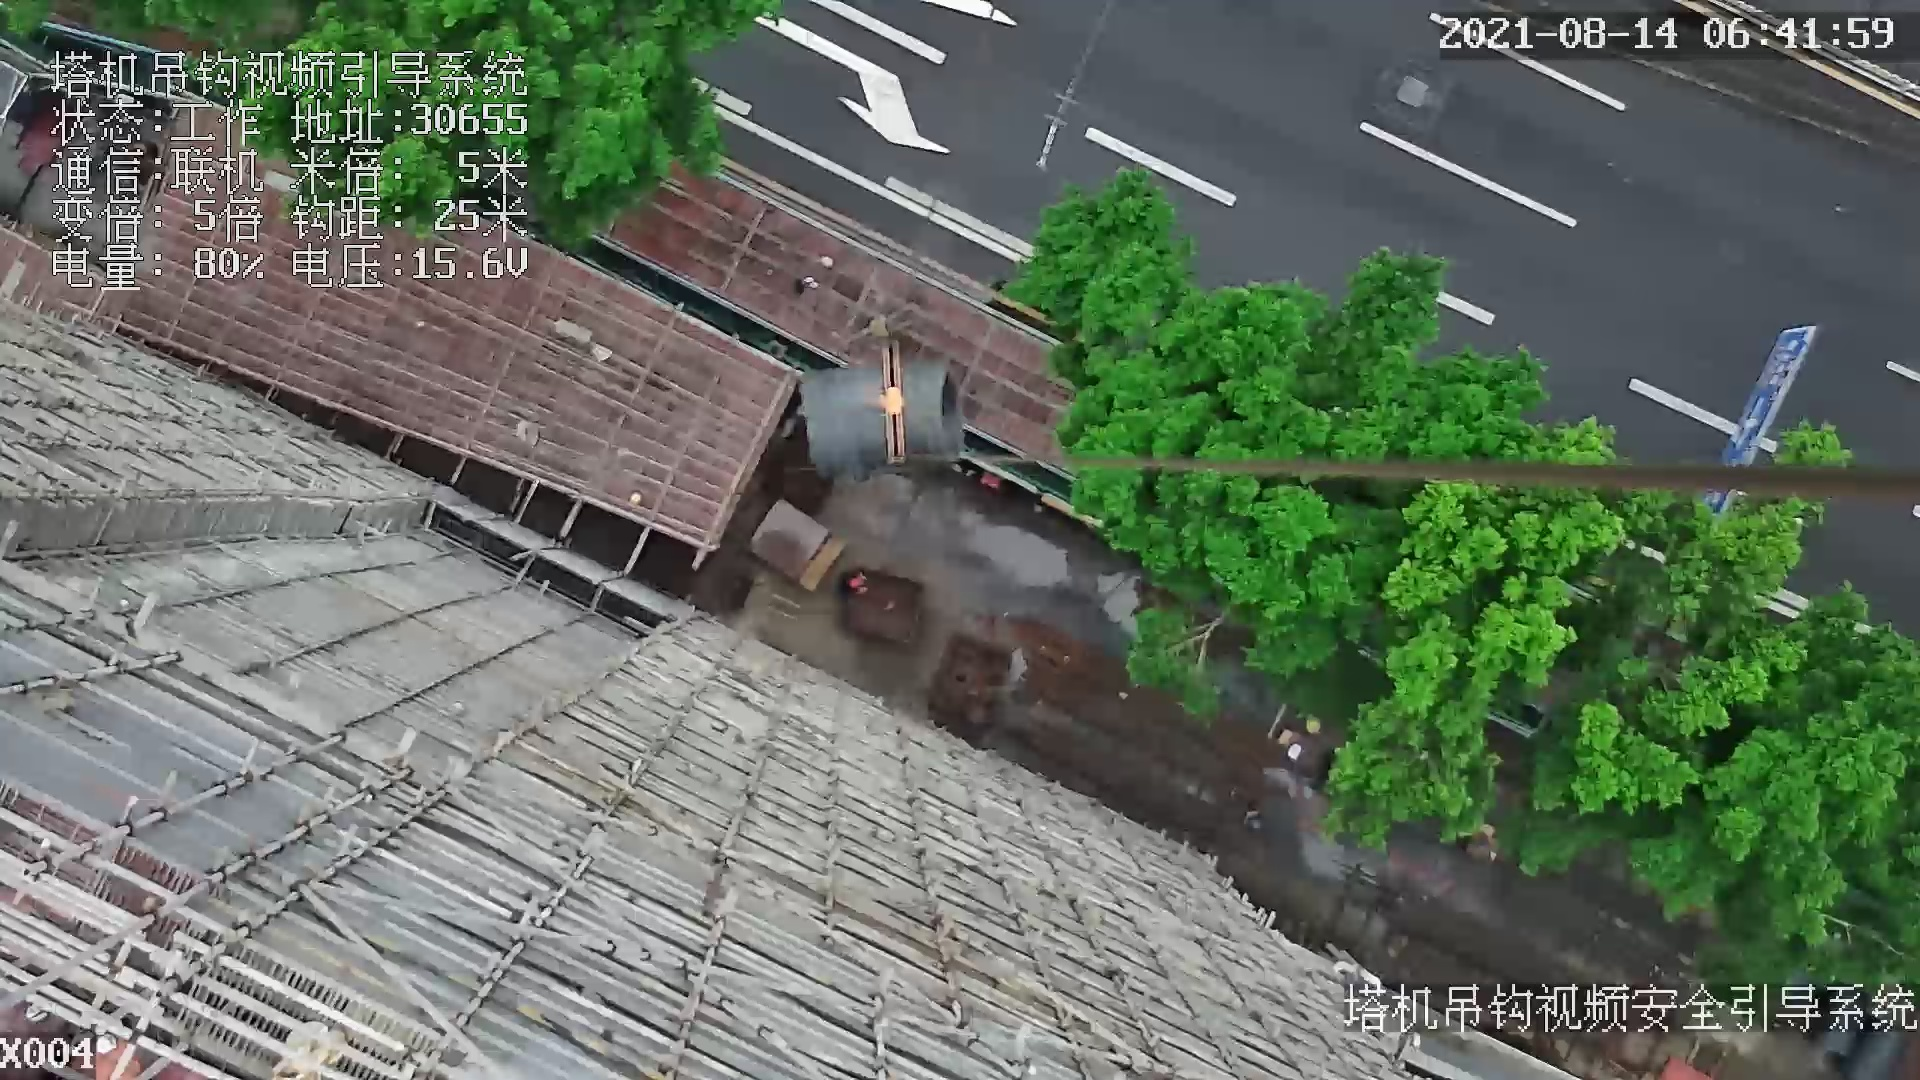hook: (866, 345, 910, 467)
